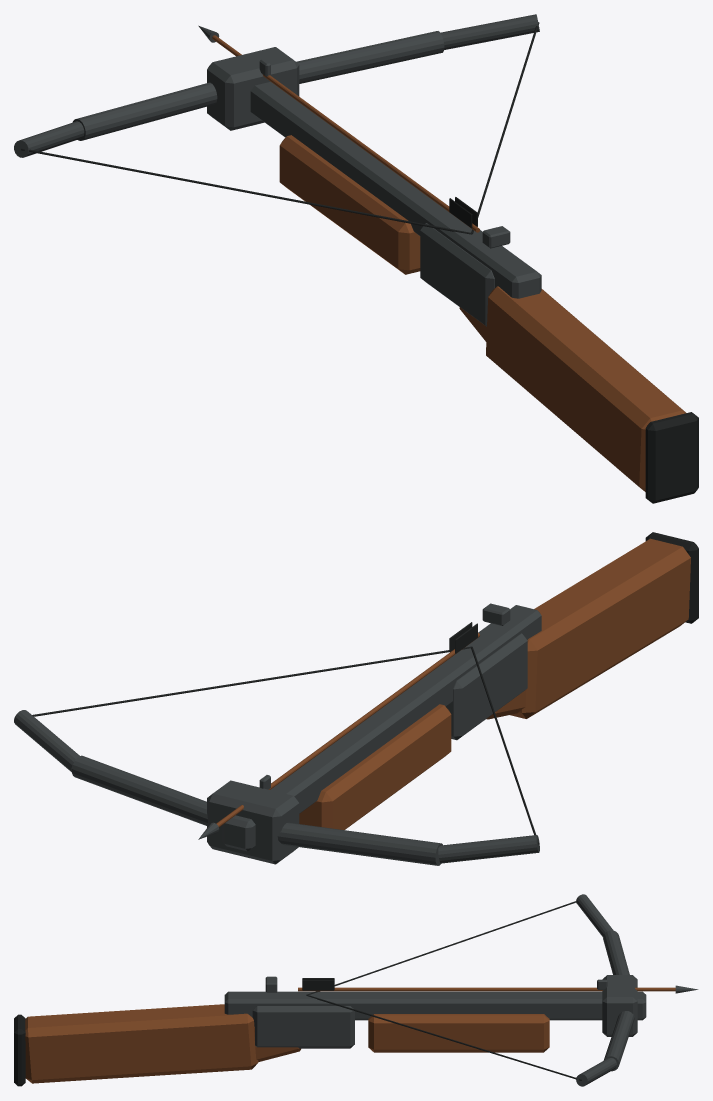
Rendered from crossbow.glb.
The picture shows the model from 3 angles, top to bottom: view 1: azimuth 30°, elevation 25°; view 2: azimuth 150°, elevation 25°; view 3: azimuth 270°, elevation 25°; orthographic projection. The views are drawn at different scales.
Parts seen in each view (by area): view 1: crossbow; view 2: crossbow; view 3: crossbow.
Part boxes in pixels (<box>): crossbow: <box>14,14,698,503</box>; crossbow: <box>14,532,698,865</box>; crossbow: <box>14,894,698,1086</box>.
Size of the model in its own units: 0.7397 by 0.189 by 1.17.
